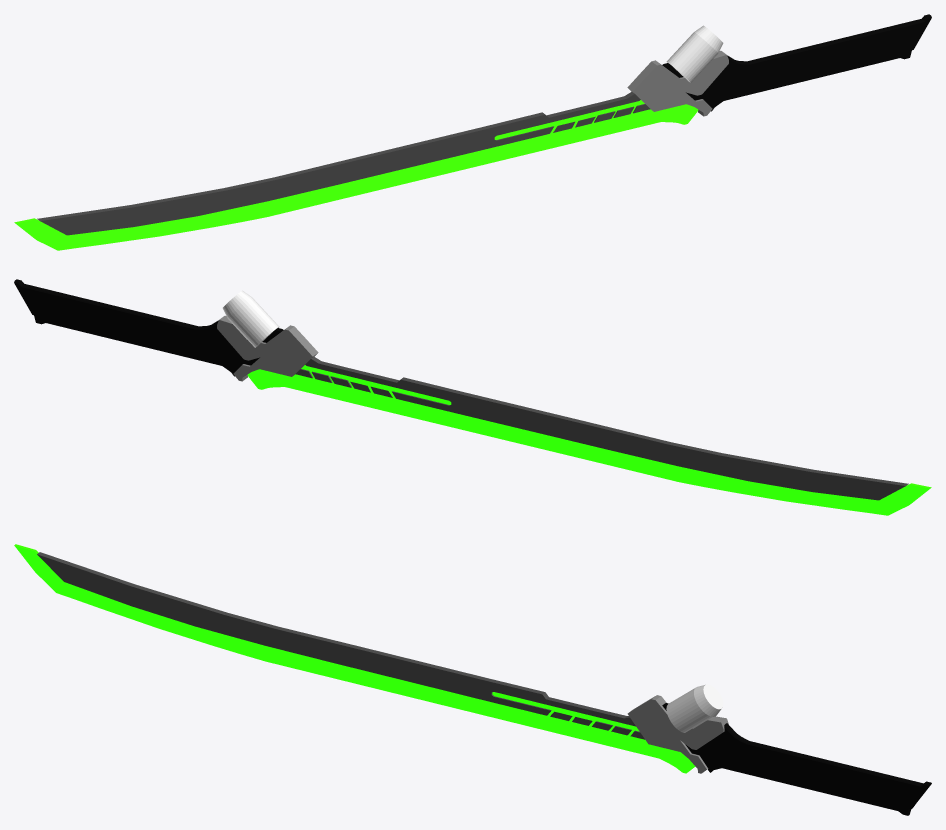
3 renders of one model, top to bottom at view 1: azimuth 30°, elevation 25°; view 2: azimuth 150°, elevation 25°; view 3: azimuth 330°, elevation 25°, orthographic.
Parts seen in each view (by area): view 1: Plane_0; view 2: Plane_0; view 3: Plane_0.
Boxes of the visible parts, x1,y1,x2,y2 form: Plane_0: [14, 14, 931, 250]; Plane_0: [14, 279, 931, 515]; Plane_0: [14, 544, 931, 815].
Size of the model in its own units: 17.22 by 1.66 by 0.45.
